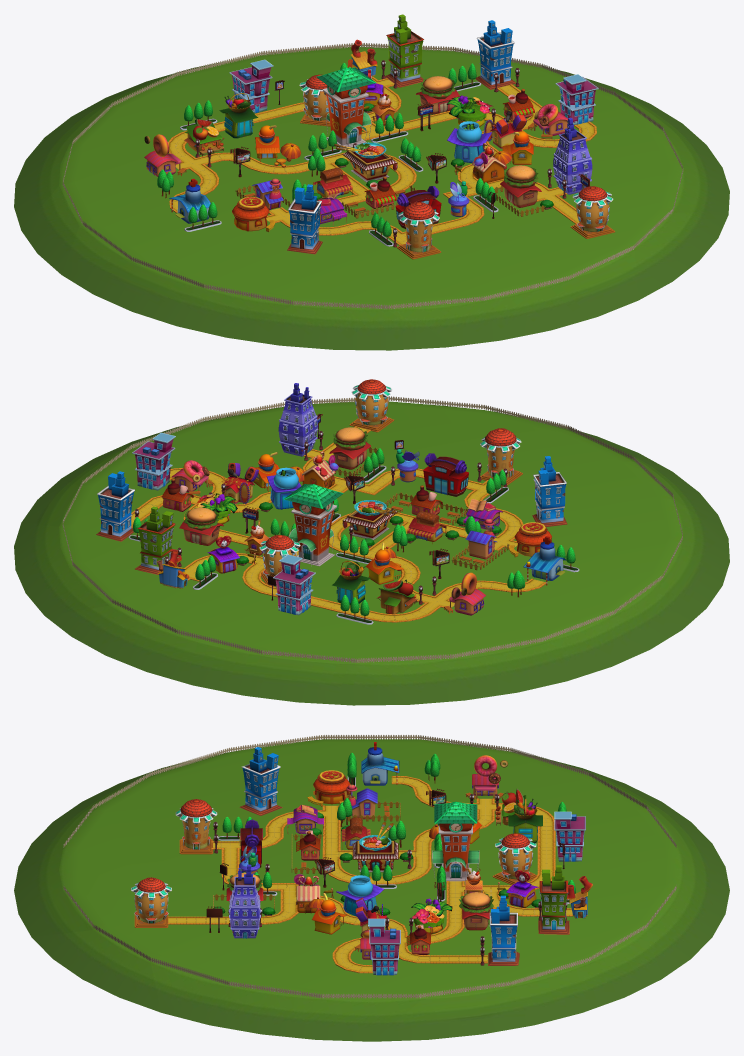
The model's file is Razigrani grad.fbx.
3 views of the same model, one above another, from view 1: azimuth 30°, elevation 25°; view 2: azimuth 150°, elevation 25°; view 3: azimuth 270°, elevation 25° (orthographic).
Visible parts, largest first — view 1: Pod_sa_putem, Scena, Ograda; view 2: Pod_sa_putem, Scena, Ograda; view 3: Pod_sa_putem, Scena, Ograda.
Part boxes in pixels (x1,y1,x2,y2): Pod_sa_putem: (14,46,729,350); Scena: (144,14,615,259); Ograda: (62,43,683,309); Pod_sa_putem: (14,401,729,705); Scena: (96,379,579,624); Ograda: (62,396,682,662); Pod_sa_putem: (14,739,729,1041); Scena: (131,742,592,975); Ograda: (63,735,676,998).
Size of the model in its own units: 4197 by 626 by 4197.
7 materials, 7 textured.
